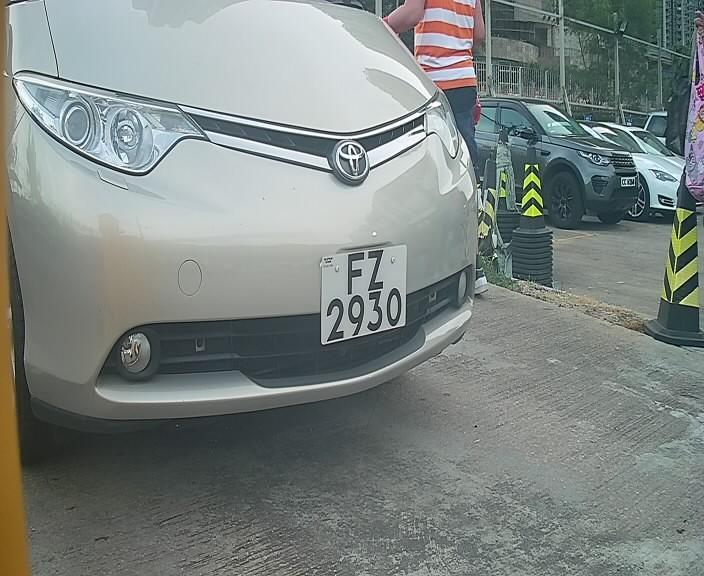privatecar: (4, 3, 519, 453)
